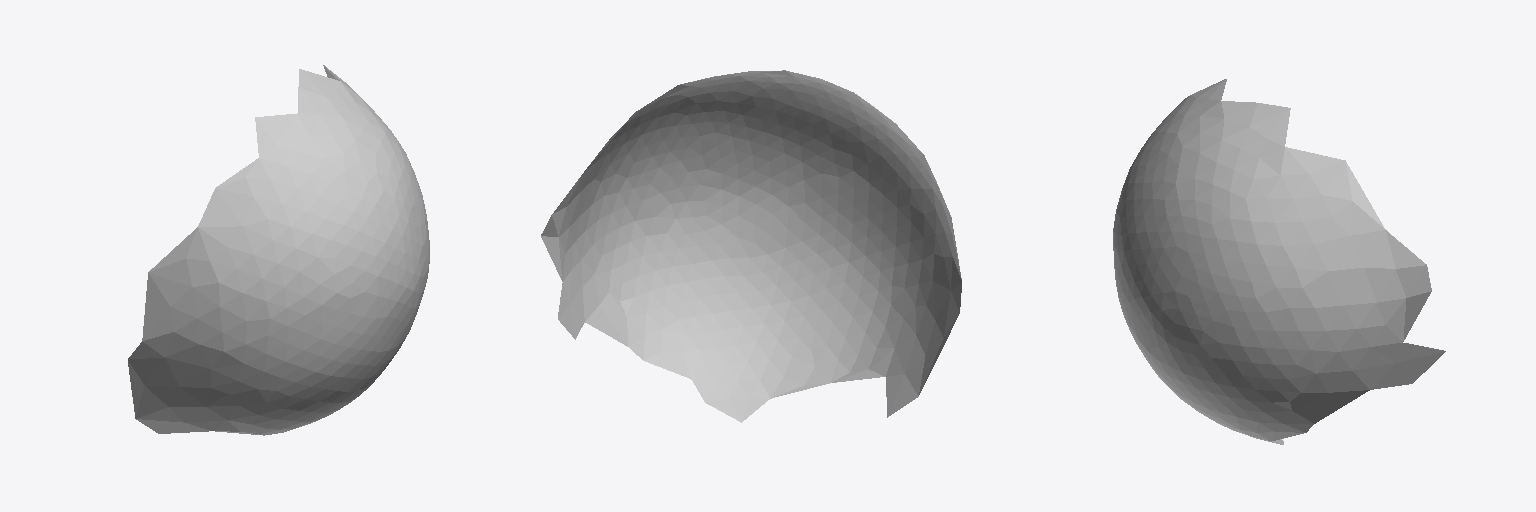
Rendered from Test_20_4.000001_singlesphere2.obj.
3 renders of one model, left to right at view 1: azimuth 30°, elevation 25°; view 2: azimuth 150°, elevation 25°; view 3: azimuth 270°, elevation 25°, orthographic.
Size of the model in its own units: 64.34 by 65.84 by 58.02.